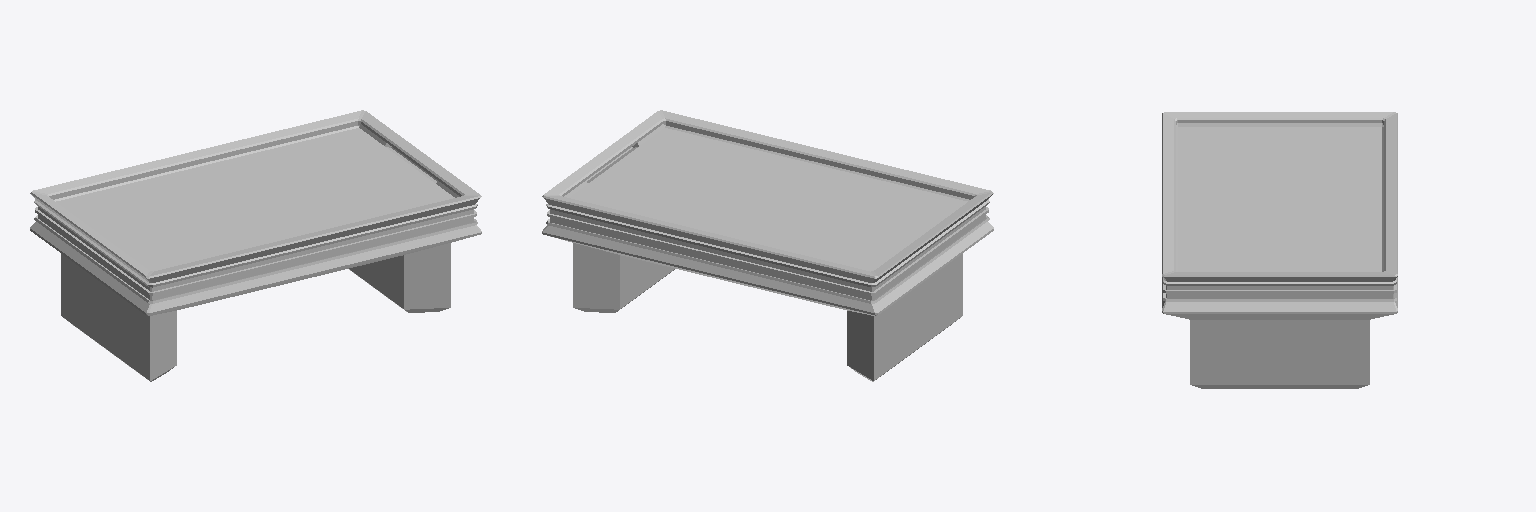
The model's file is mesa.obj.
3 views of the same model, side by side, from view 1: azimuth 30°, elevation 25°; view 2: azimuth 150°, elevation 25°; view 3: azimuth 270°, elevation 25° (orthographic).
Bounding box in the file's own units: 2.56 × 0.912 × 1.56.